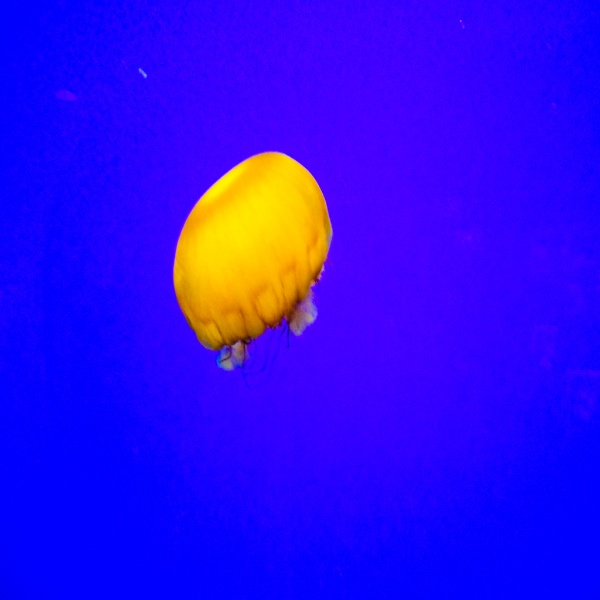Jellyfish: (173, 145, 338, 390)
